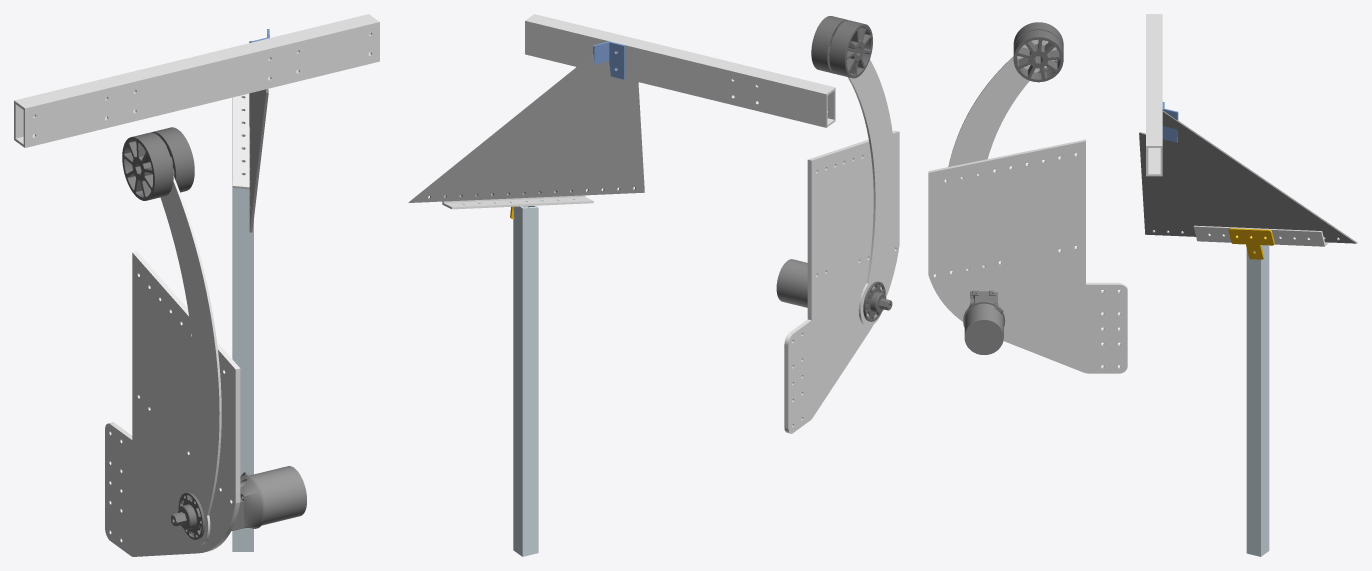
Rendered from 5959ExtraAssets.fbx.
3 views of the same model, side by side, from view 1: azimuth 30°, elevation 25°; view 2: azimuth 150°, elevation 25°; view 3: azimuth 270°, elevation 25° (orthographic). The views are drawn at different scales.
Visible parts, largest first — view 1: Part 49, Zero Stage Top Horizontal Tube, Part 81, Part 9, 3" Compliant Wheel (60A, 1" Wide, 1/2" Hex Bore).001, NEO Brushless Motor (REV-21-1650), Part 5, Part 7, 3" Compliant Wheel (60A, 1" Wide, 1/2" Hex Bore), VersaPlanetary CIM Adapter (217-4018), 1/2" Hex Hub (1.125" OD, #8 Clearance, 0.5" WD, Aluminum); view 2: Part 5, Part 49, Zero Stage Top Horizontal Tube, Part 9, Part 81, 3" Compliant Wheel (60A, 1" Wide, 1/2" Hex Bore).001, Part 7, NEO Brushless Motor (REV-21-1650), 3" Compliant Wheel (60A, 1" Wide, 1/2" Hex Bore), Part 6, 1/2" Hex Hub (1.125" OD, #8 Clearance, 0.5" WD, Aluminum); view 3: Part 49, Part 5, Part 9, Part 81, Zero Stage Top Horizontal Tube, 3" Compliant Wheel (60A, 1" Wide, 1/2" Hex Bore), NEO Brushless Motor (REV-21-1650), Part 7, Part 8.
Part boxes in pixels (x1,y1,x2,y2): Part 49: (105,251,240,556); Zero Stage Top Horizontal Tube: (14,14,379,147); Part 81: (160,176,221,545); Part 9: (232,136,253,551); 3" Compliant Wheel (60A, 1" Wide, 1/2" Hex Bore).001: (122,132,173,200); NEO Brushless Motor (REV-21-1650): (241,466,306,525); Part 5: (249,41,268,232); Part 7: (232,93,249,189); 3" Compliant Wheel (60A, 1" Wide, 1/2" Hex Bore): (151,127,194,192); VersaPlanetary CIM Adapter (217-4018): (240,475,264,528); 1/2" Hex Hub (1.125" OD, #8 Clearance, 0.5" WD, Aluminum): (178,492,204,539); Part 5: (408,54,644,202); Part 49: (784,130,899,433); Zero Stage Top Horizontal Tube: (525,14,835,127); Part 9: (513,205,538,556); Part 81: (847,60,895,326); 3" Compliant Wheel (60A, 1" Wide, 1/2" Hex Bore).001: (829,20,872,78); Part 7: (442,189,593,209); NEO Brushless Motor (REV-21-1650): (776,259,807,307); 3" Compliant Wheel (60A, 1" Wide, 1/2" Hex Bore): (811,16,848,73); Part 6: (593,41,625,79); 1/2" Hex Hub (1.125" OD, #8 Clearance, 0.5" WD, Aluminum): (863,281,886,321); Part 49: (928,139,1127,373); Part 5: (1139,111,1357,243); Part 9: (1246,245,1269,556); Part 81: (946,39,1056,268); Zero Stage Top Horizontal Tube: (1146,14,1162,176); 3" Compliant Wheel (60A, 1" Wide, 1/2" Hex Bore): (1013,30,1063,82); NEO Brushless Motor (REV-21-1650): (964,303,1003,354); Part 7: (1193,225,1328,246); Part 8: (1228,228,1274,259).
Size of the model in its own units: 48.99 by 73.63 by 65.48.
